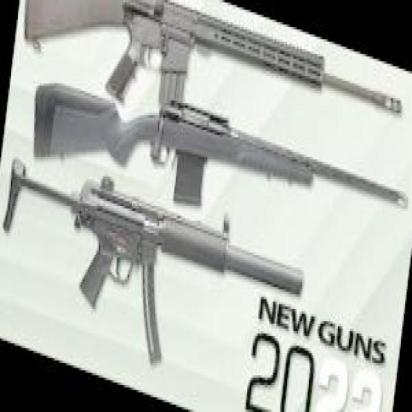Gun: (0, 144, 258, 395)
